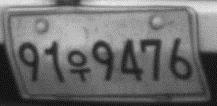1: (42, 39, 65, 85)
4: (118, 37, 145, 83)
6: (168, 37, 194, 81)
7: (139, 37, 162, 82)
9: (91, 39, 115, 82), (18, 40, 39, 84)
우: (67, 49, 91, 84)
